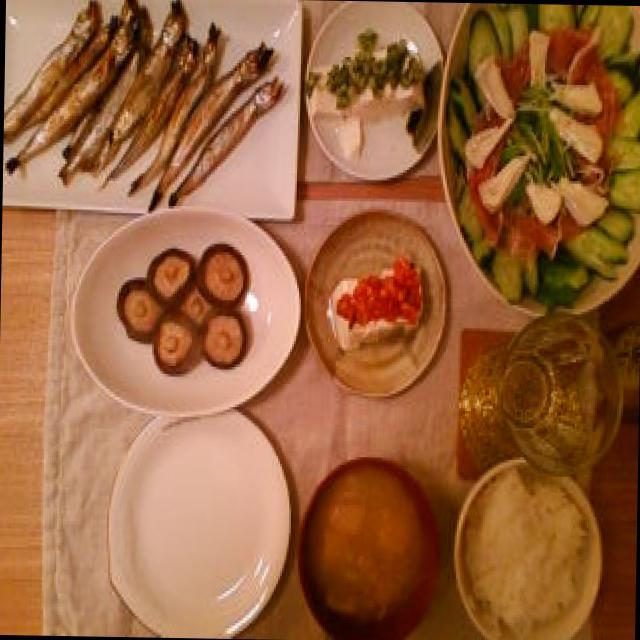Rice: (462, 474, 586, 632)
